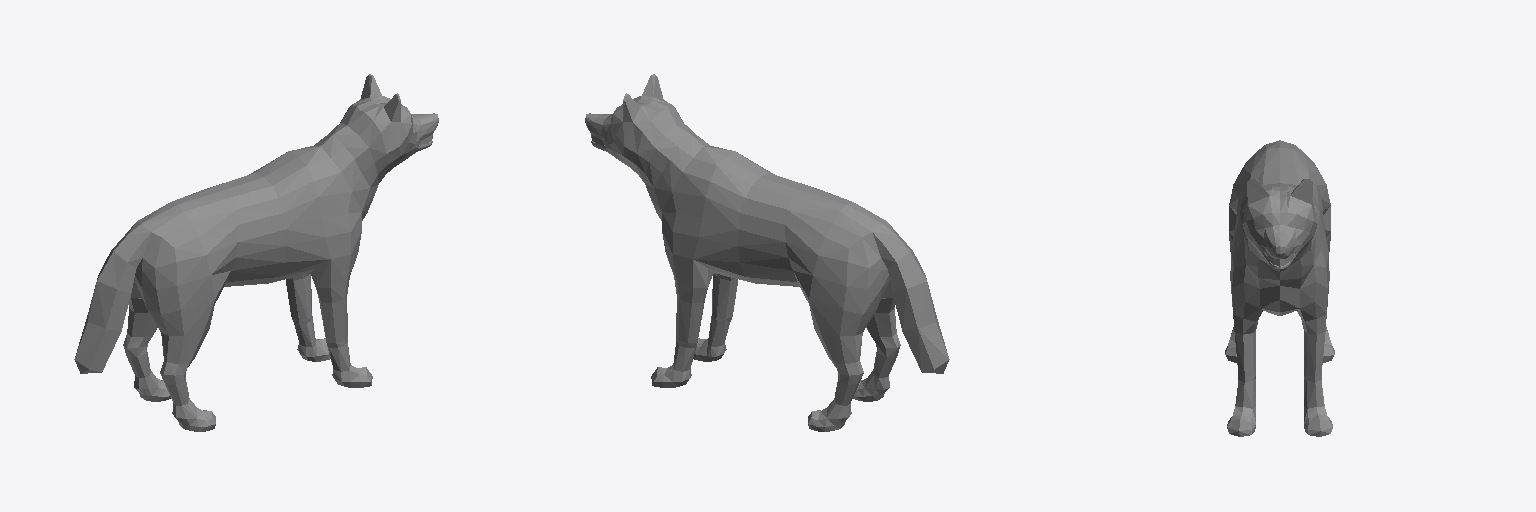
File: wolf-obj.obj
3 renders of one model, left to right at view 1: azimuth 30°, elevation 25°; view 2: azimuth 150°, elevation 25°; view 3: azimuth 270°, elevation 25°, orthographic.
Visible parts, largest first — view 1: wolf___jN; view 2: wolf___jN; view 3: wolf___jN.
Part boxes in pixels (bbox=[...]): wolf___jN: bbox=[74, 74, 438, 431]; wolf___jN: bbox=[585, 74, 949, 431]; wolf___jN: bbox=[1225, 140, 1334, 436].
Size of the model in its own units: 11.33 by 8.35 by 2.97.